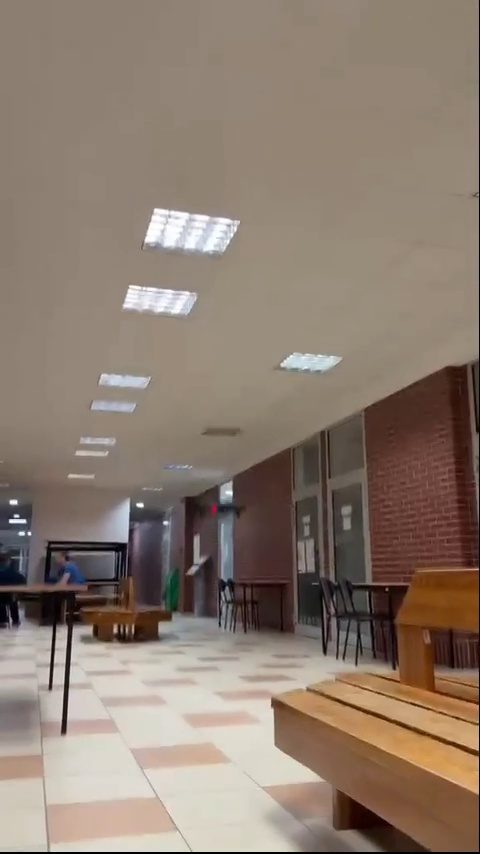drone: (200, 497, 251, 524)
no vest: (47, 548, 84, 590)
